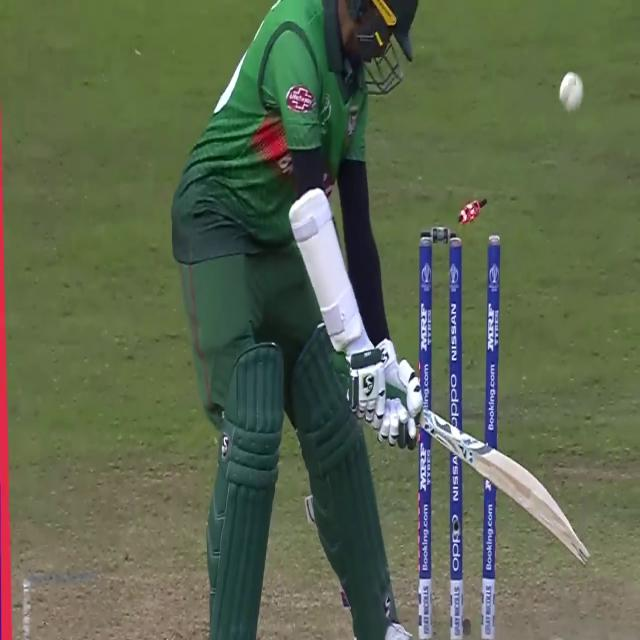ball: (558, 66, 586, 116)
